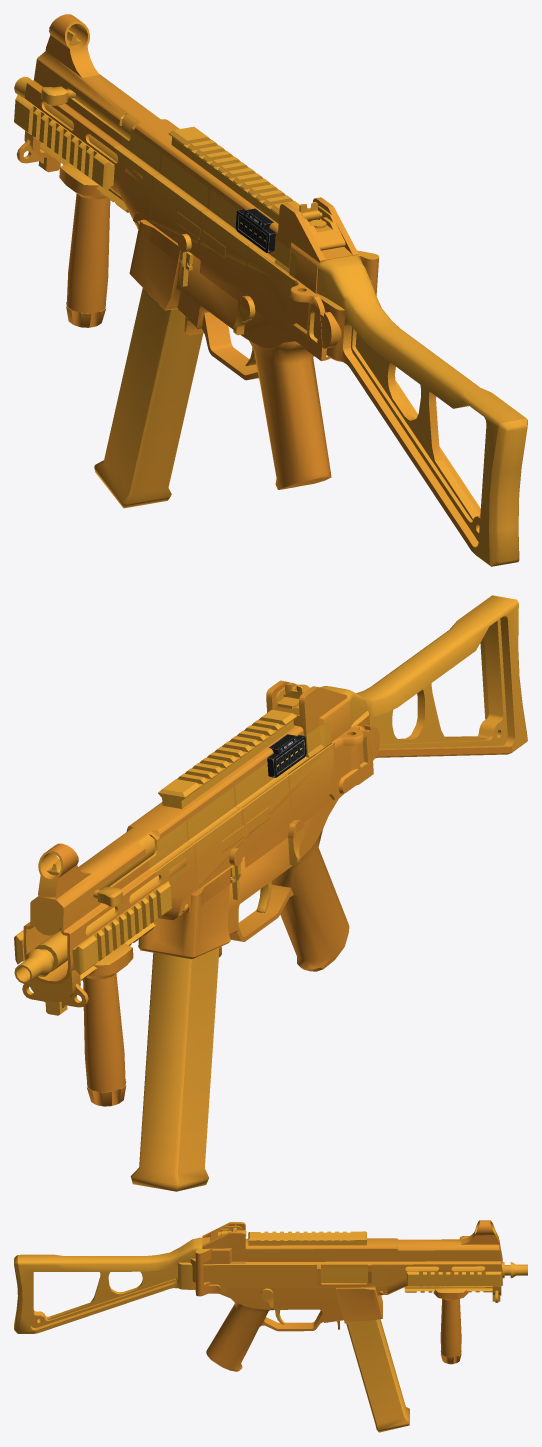
Rendered from ump45.glb.
The picture shows the model from 3 angles, top to bottom: view 1: azimuth 30°, elevation 25°; view 2: azimuth 150°, elevation 25°; view 3: azimuth 270°, elevation 25°; orthographic projection. The views are drawn at different scales.
Visible parts, largest first — view 1: LOD_Template.001, Magazine2, Sticker2, Sticker3, Sticker4, Sticker1, StatTrack.003, Gunlock1.001; view 2: LOD_Template.001, Magazine2, Sticker2, Sticker3, Sticker4, Sticker1, StatTrack.003, Gunlock1.001; view 3: LOD_Template.001, Magazine2.
Boxes of the visible parts, x1,y1,x2,y2 form: LOD_Template.001: (14, 14, 527, 566); Magazine2: (94, 288, 203, 508); Sticker2: (146, 153, 208, 261); Sticker3: (199, 189, 253, 307); Sticker4: (241, 236, 296, 336); Sticker1: (113, 130, 160, 221); StatTrack.003: (235, 208, 275, 252); Gunlock1.001: (41, 86, 136, 139); LOD_Template.001: (14, 595, 527, 1106); Magazine2: (130, 947, 219, 1191); Sticker2: (187, 787, 244, 905); Sticker3: (235, 762, 295, 868); Sticker4: (283, 720, 336, 832); Sticker1: (149, 820, 197, 907); StatTrack.003: (267, 734, 306, 777); Gunlock1.001: (93, 834, 155, 907); LOD_Template.001: (14, 1220, 527, 1371); Magazine2: (346, 1319, 409, 1432).
Bounding box in the file's own units: 0.0767 × 0.3528 × 0.7728.
Materials: 6 (6 with a texture image).
